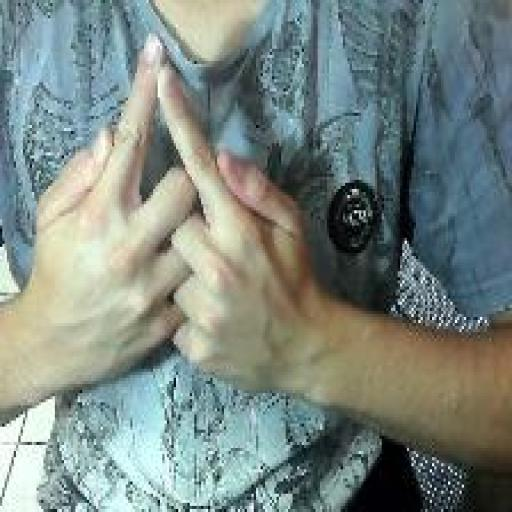Uma -horse-: (31, 30, 316, 406)
